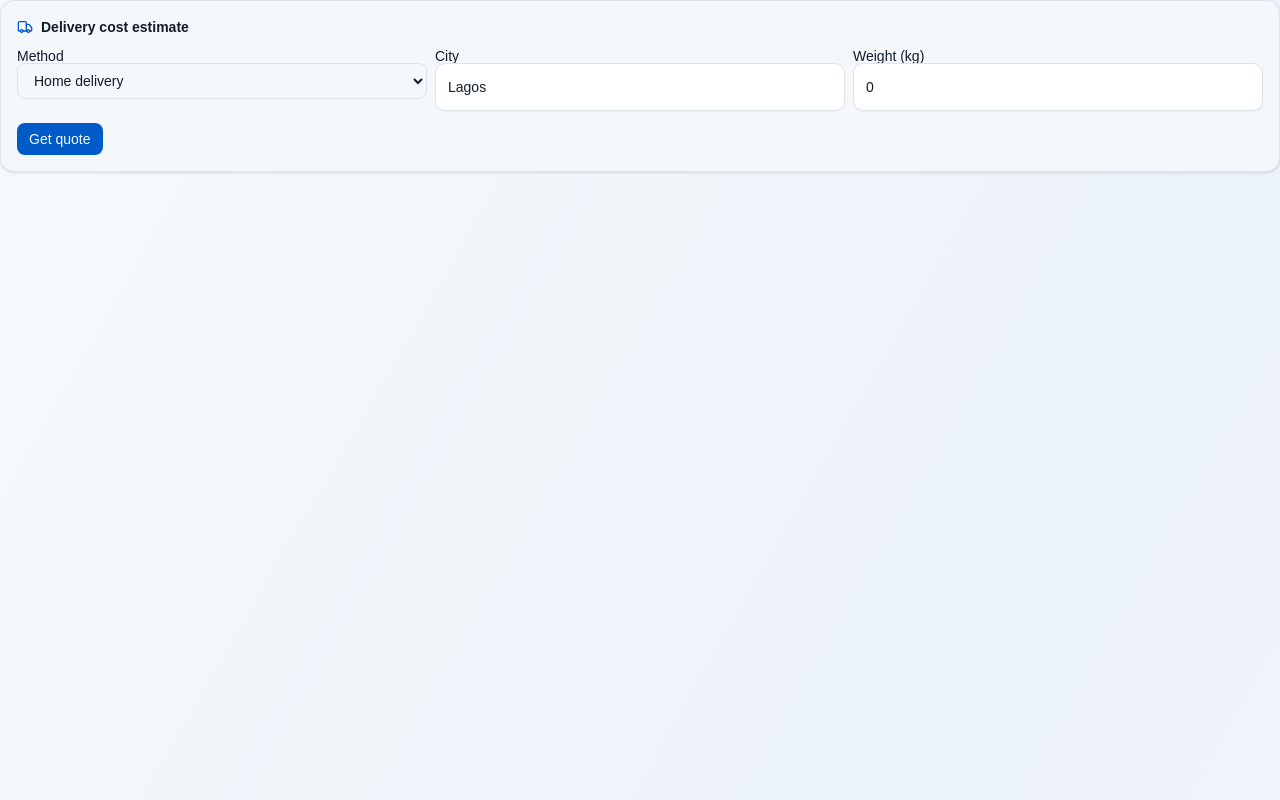
Test: RateEstimator (L5) › requests a quote and renders the cost
This screenshot has width=1280, height=800.
Click the button with test id "rate-submit" at (60, 139), box x1=17 y1=123 x2=102 y2=155
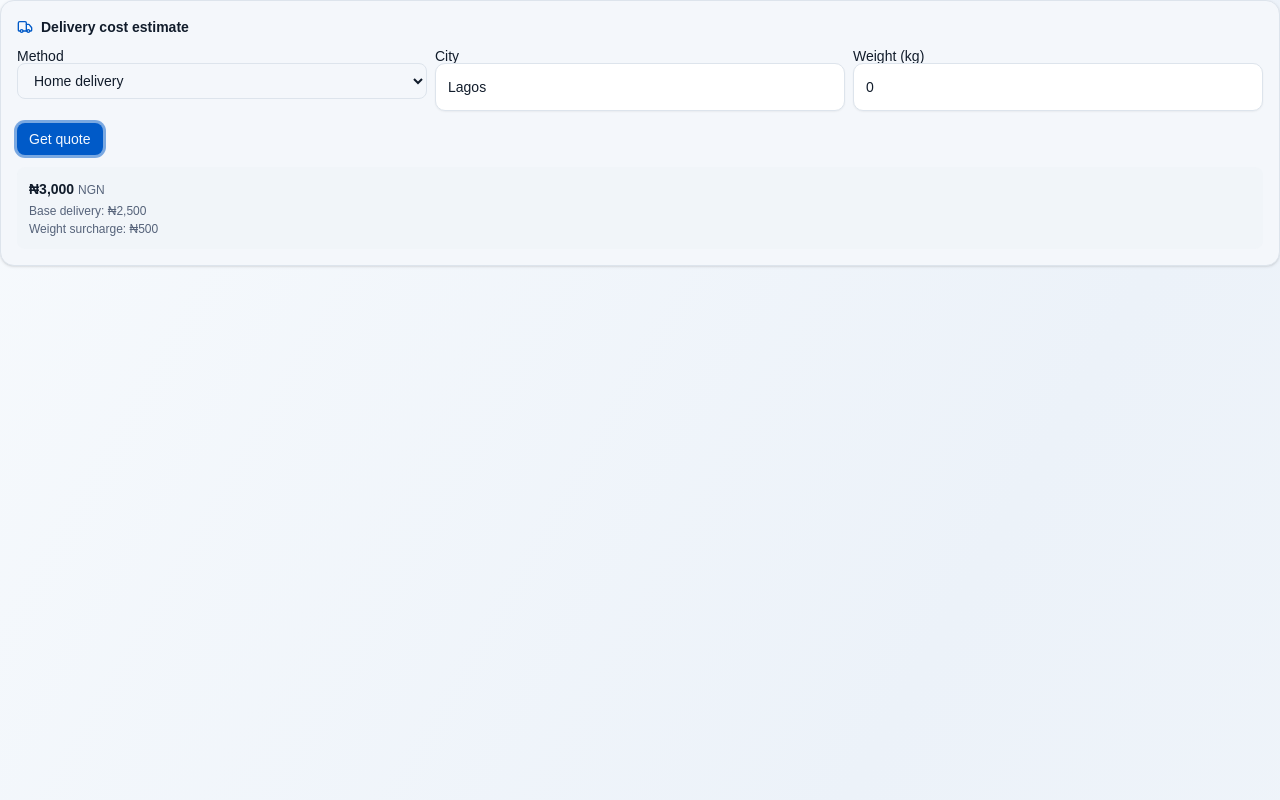
Result: the element with test id "rate-quote" is shown at x1=17 y1=167 x2=1263 y2=249
Result: the list item "Base delivery: ₦2,500" is shown at x1=29 y1=204 x2=146 y2=218
